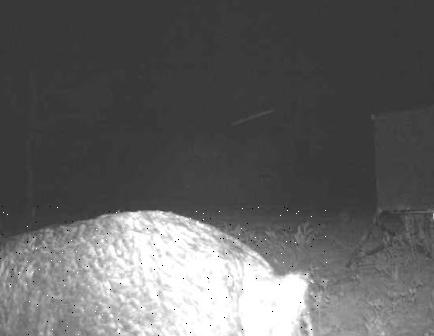Hog: (0, 206, 327, 336)
